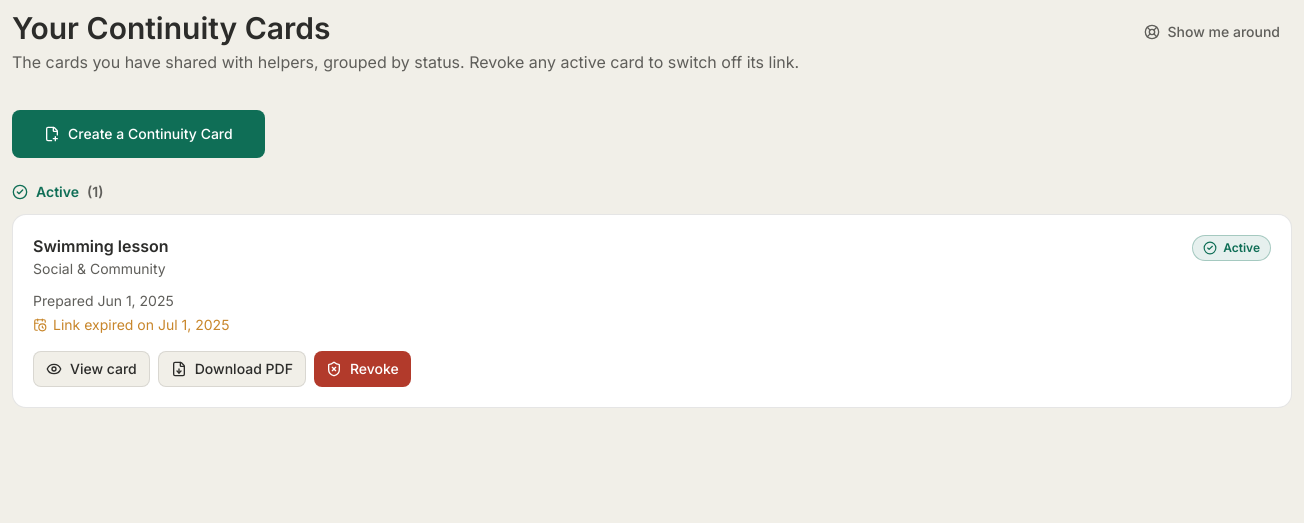
Scenario: CardHistoryList › shows a calm upgrade prompt (not an error) when the PDF export is paywalled (402)
This screenshot has width=1304, height=523.
Expected: the heading "Swimming lesson" is shown, x1=33 y1=235 x2=169 y2=257
Click the button "Download PDF" at coordinates (232, 369), box x1=158 y1=351 x2=306 y2=387
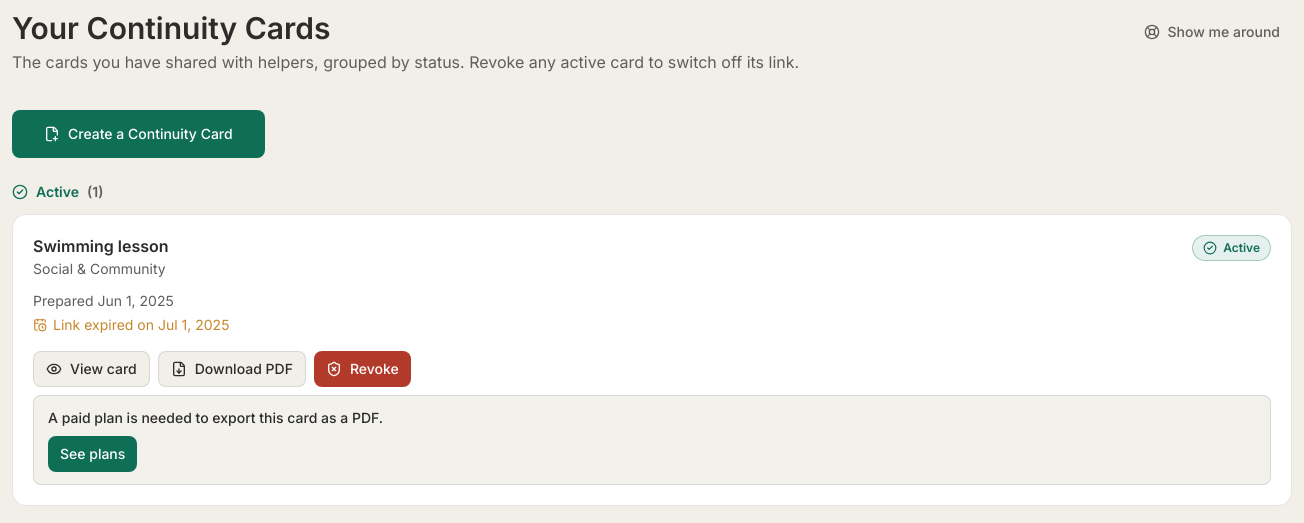
Expected: the message shows "A paid plan is needed to export this card as a PDF", x1=48 y1=409 x2=383 y2=426
